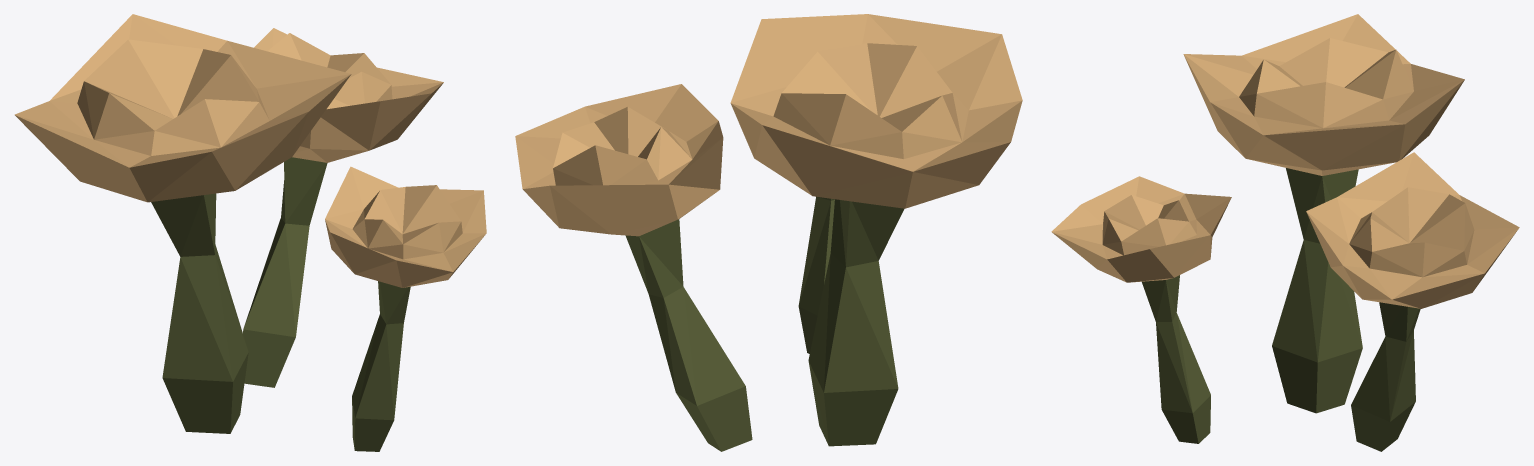
The model's file is SM_Env_Flower_03.glb.
The picture shows the model from 3 angles, left to right: view 1: azimuth 30°, elevation 25°; view 2: azimuth 150°, elevation 25°; view 3: azimuth 270°, elevation 25°; orthographic projection. The views are drawn at different scales.
Parts seen in each view (by area): view 1: SM_Env_Flower_03; view 2: SM_Env_Flower_03; view 3: SM_Env_Flower_03.
Boxes of the visible parts, <box> form: SM_Env_Flower_03: <box>14,14,486,451</box>; SM_Env_Flower_03: <box>515,14,1022,451</box>; SM_Env_Flower_03: <box>1051,14,1519,451</box>.
Bounding box in the file's own units: 4.93 × 3.87 × 4.83.
1 material, 1 textured.
